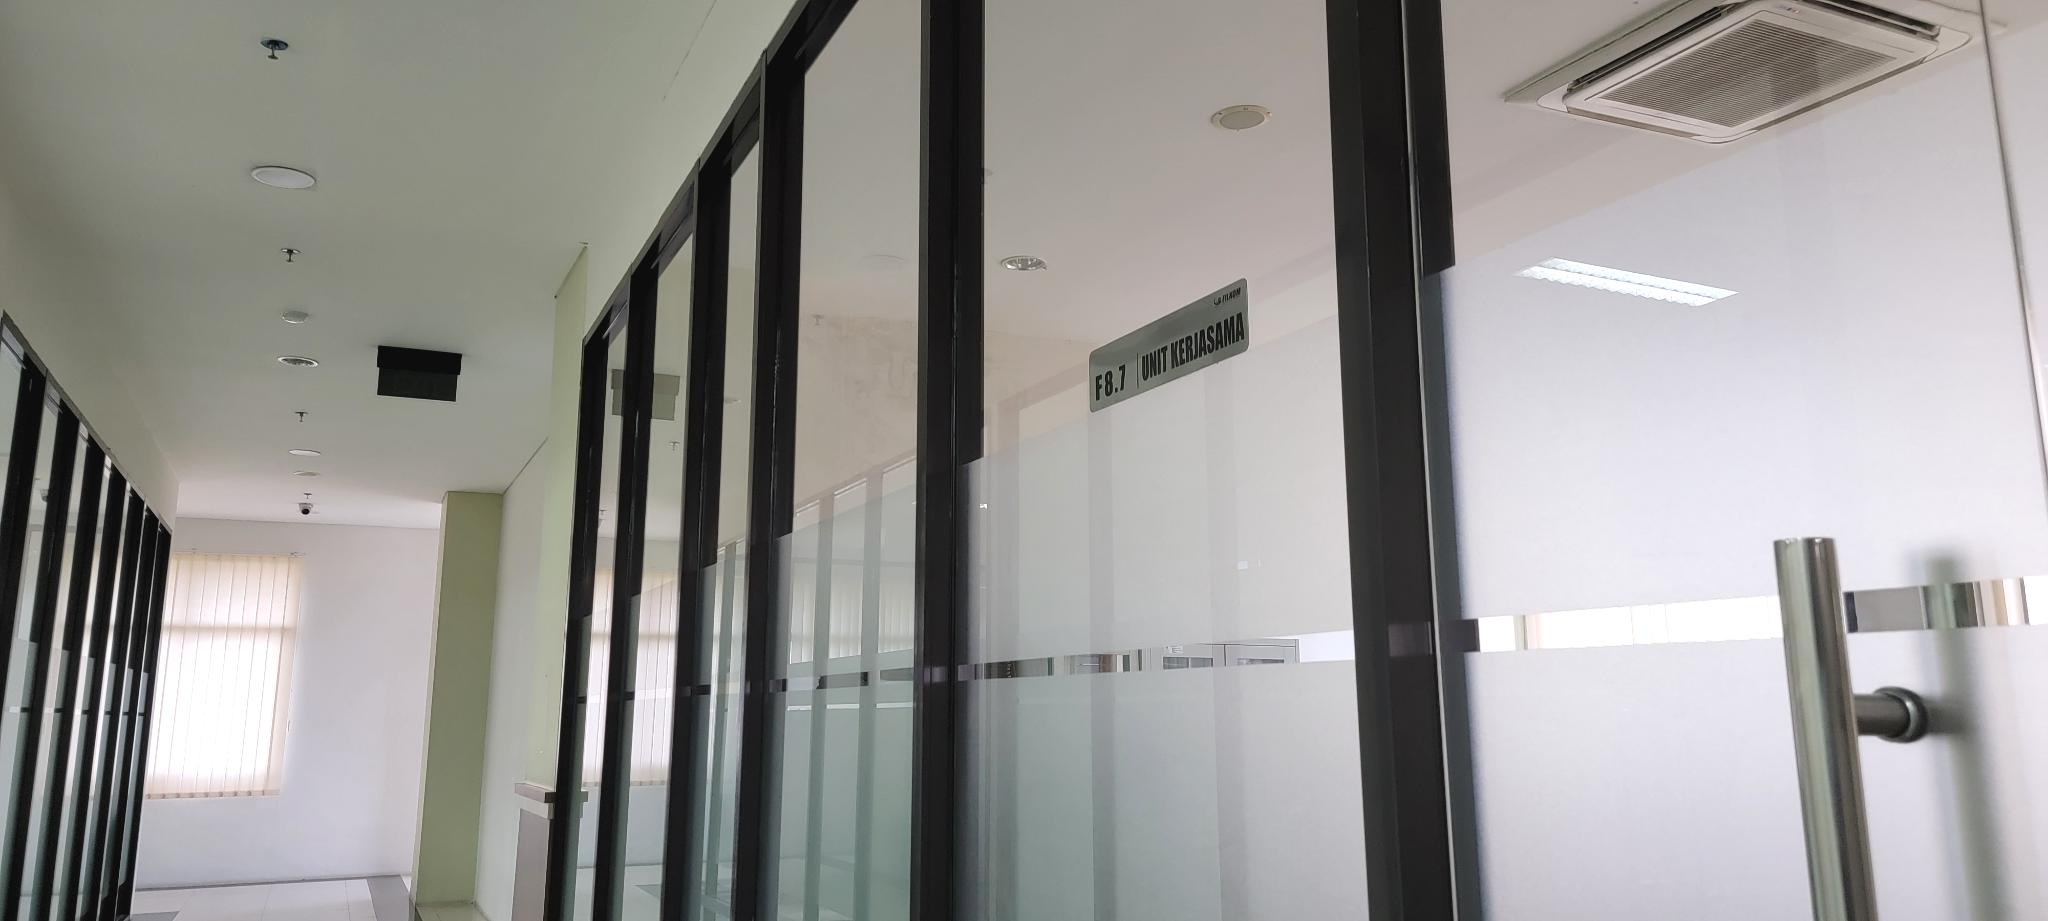plate: (1089, 280, 1250, 412)
